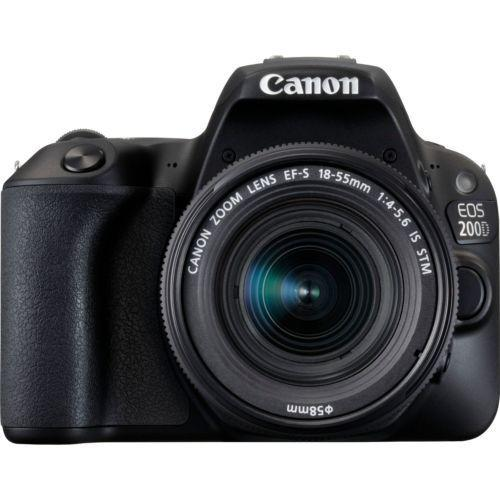kamera: (2, 52, 500, 453)
